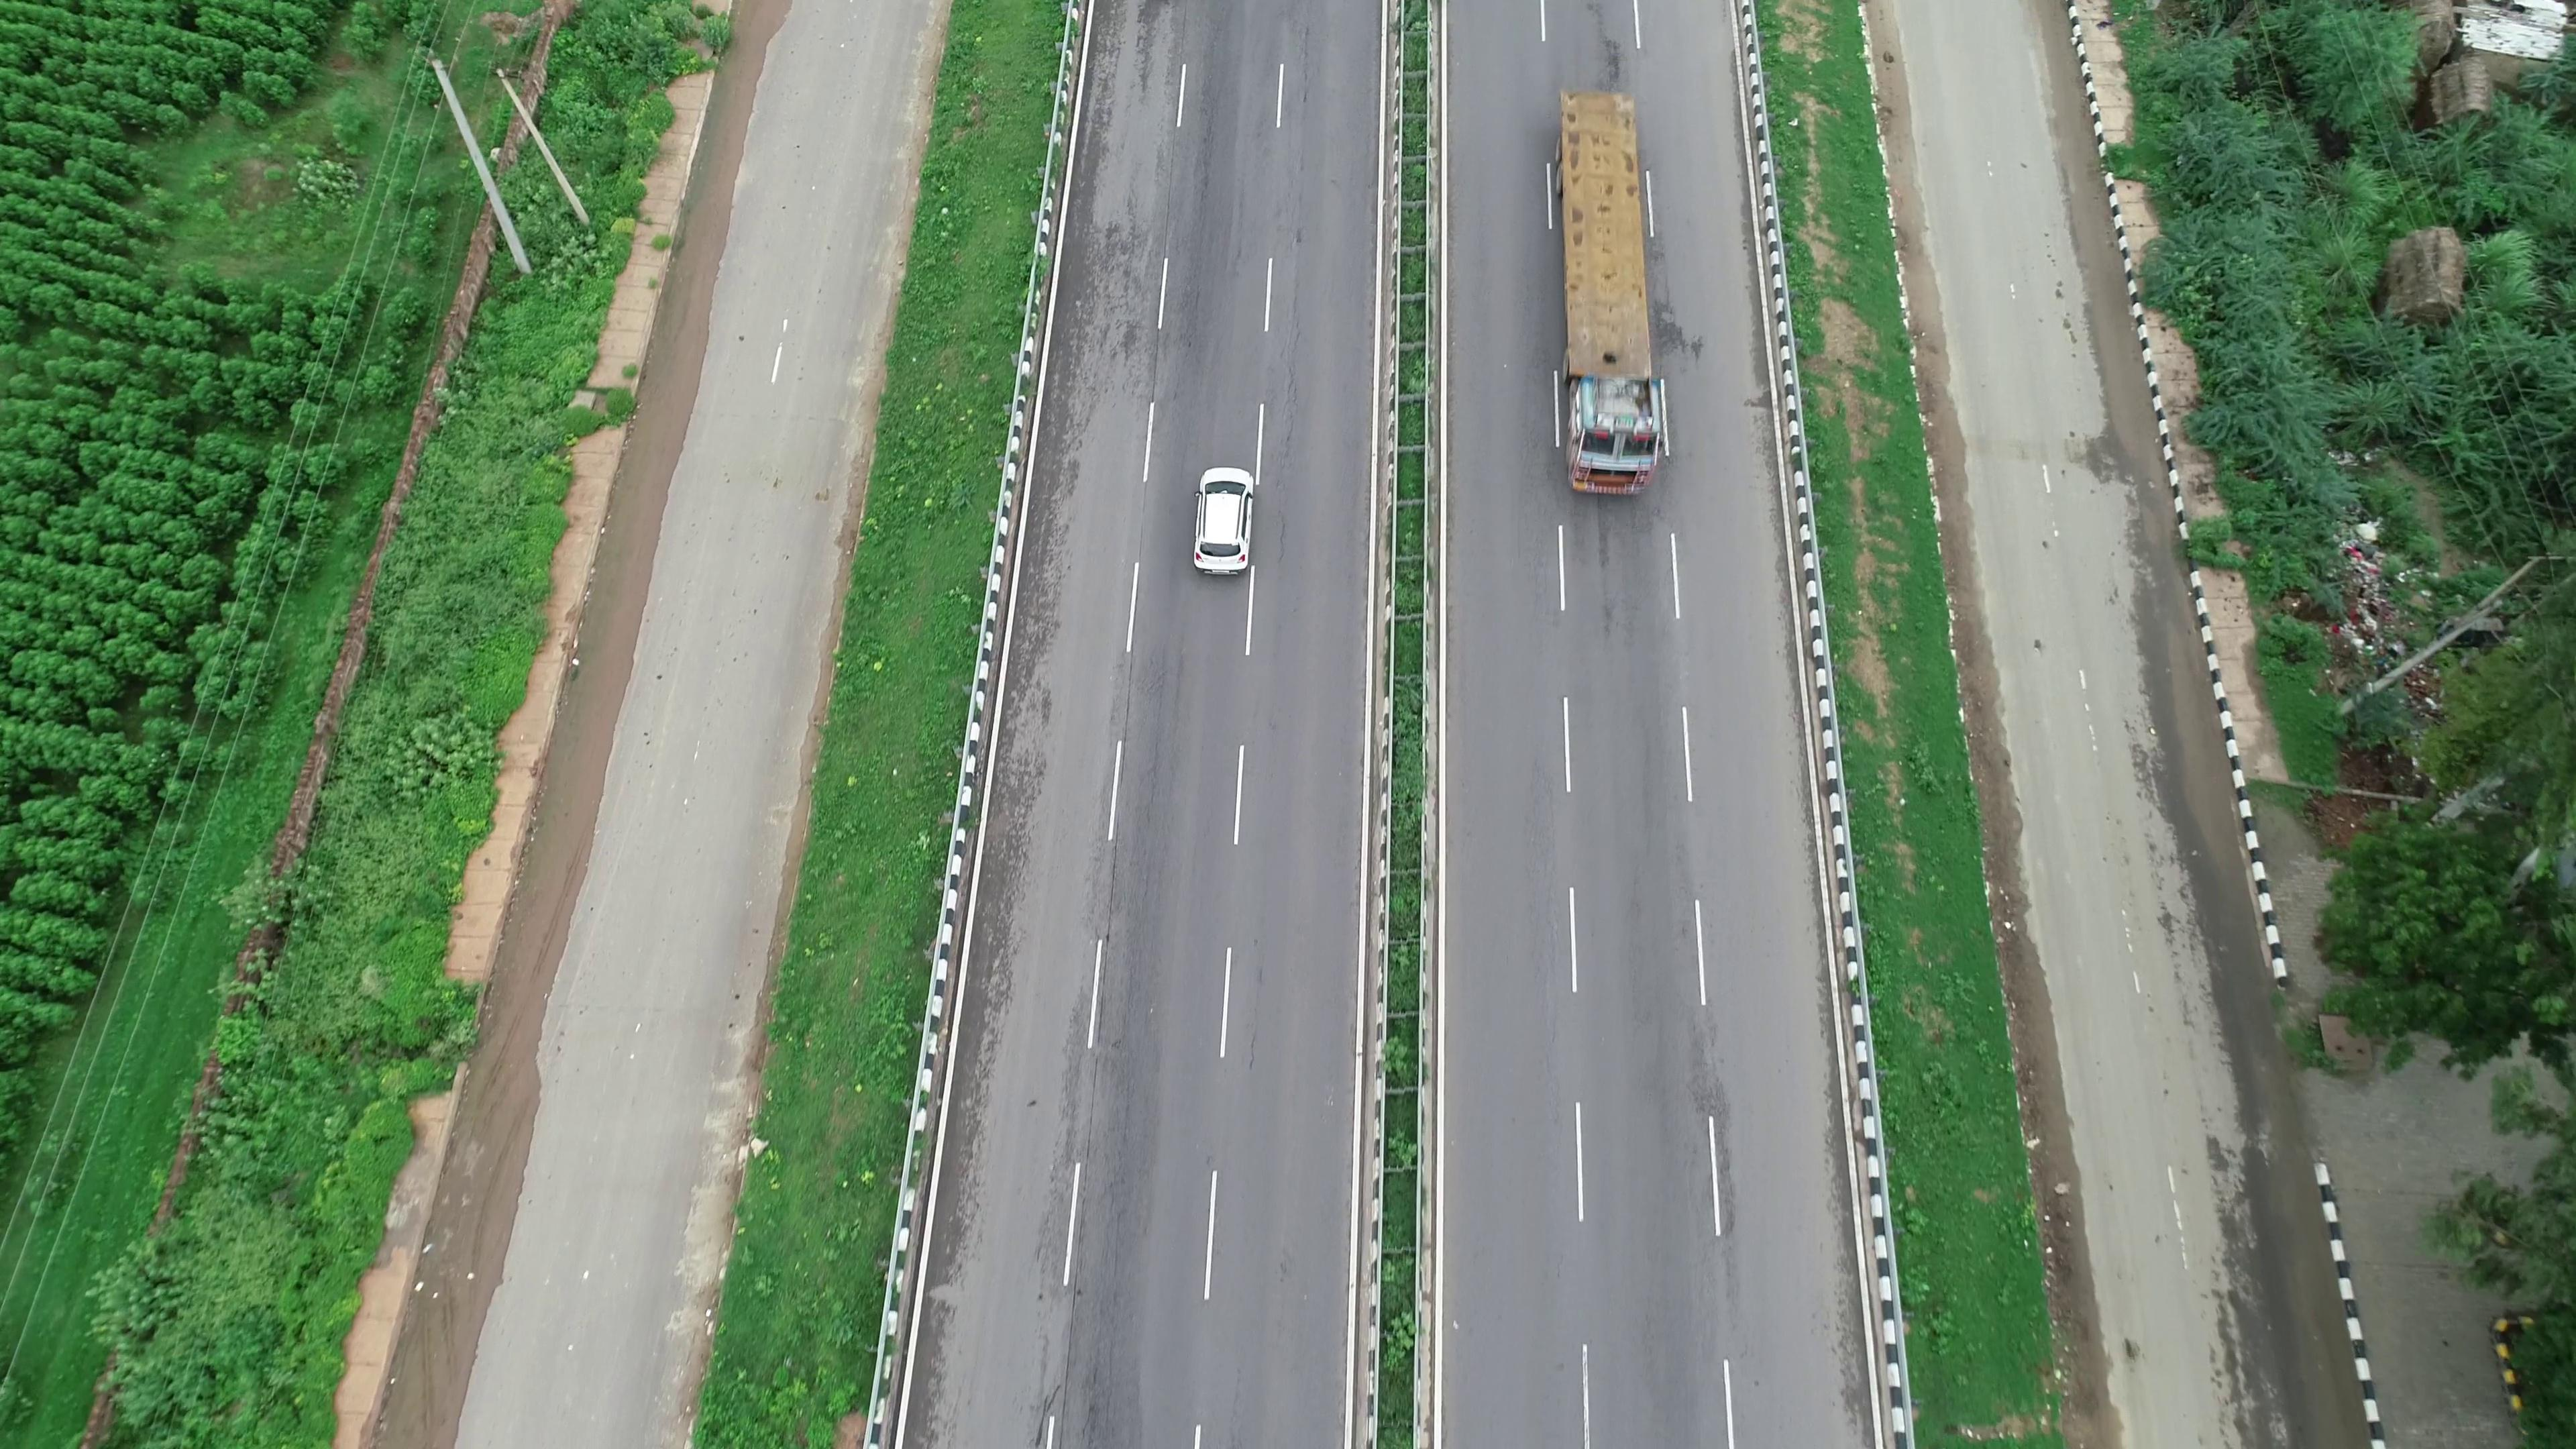Longitudinal_cracks: (1274, 27, 1316, 451)
